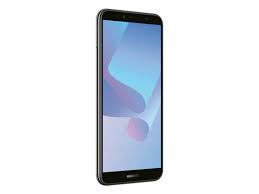huawei: (94, 7, 166, 185)
